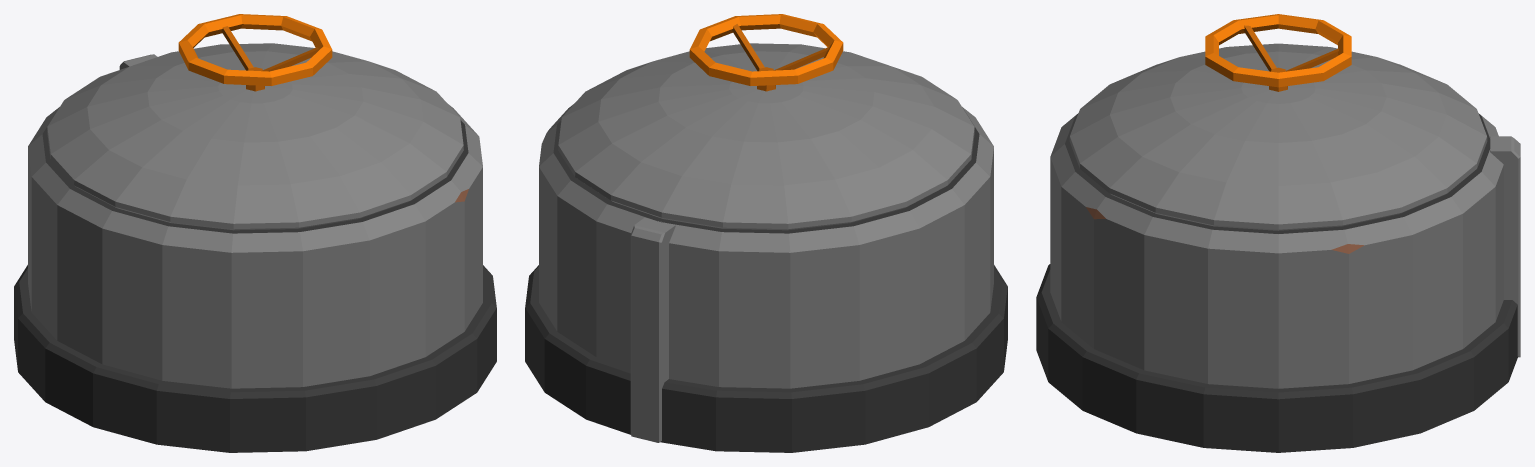
Rendered from model_metal_hatch.fbx.
3 views of the same model, side by side, from view 1: azimuth 30°, elevation 25°; view 2: azimuth 150°, elevation 25°; view 3: azimuth 270°, elevation 25° (orthographic).
Visible parts, largest first — view 1: model_metal_hatch, model_metal_hatch_door; view 2: model_metal_hatch, model_metal_hatch_door; view 3: model_metal_hatch, model_metal_hatch_door.
Part boxes in pixels (x1,y1,x2,y2): model_metal_hatch: (14,54,496,452); model_metal_hatch_door: (47,14,463,230); model_metal_hatch: (525,103,1007,452); model_metal_hatch_door: (558,14,974,230); model_metal_hatch: (1036,113,1520,452); model_metal_hatch_door: (1069,14,1487,230).
Bounding box in the file's own units: 204 × 142 × 204.
Materials: 1 (1 with a texture image).
